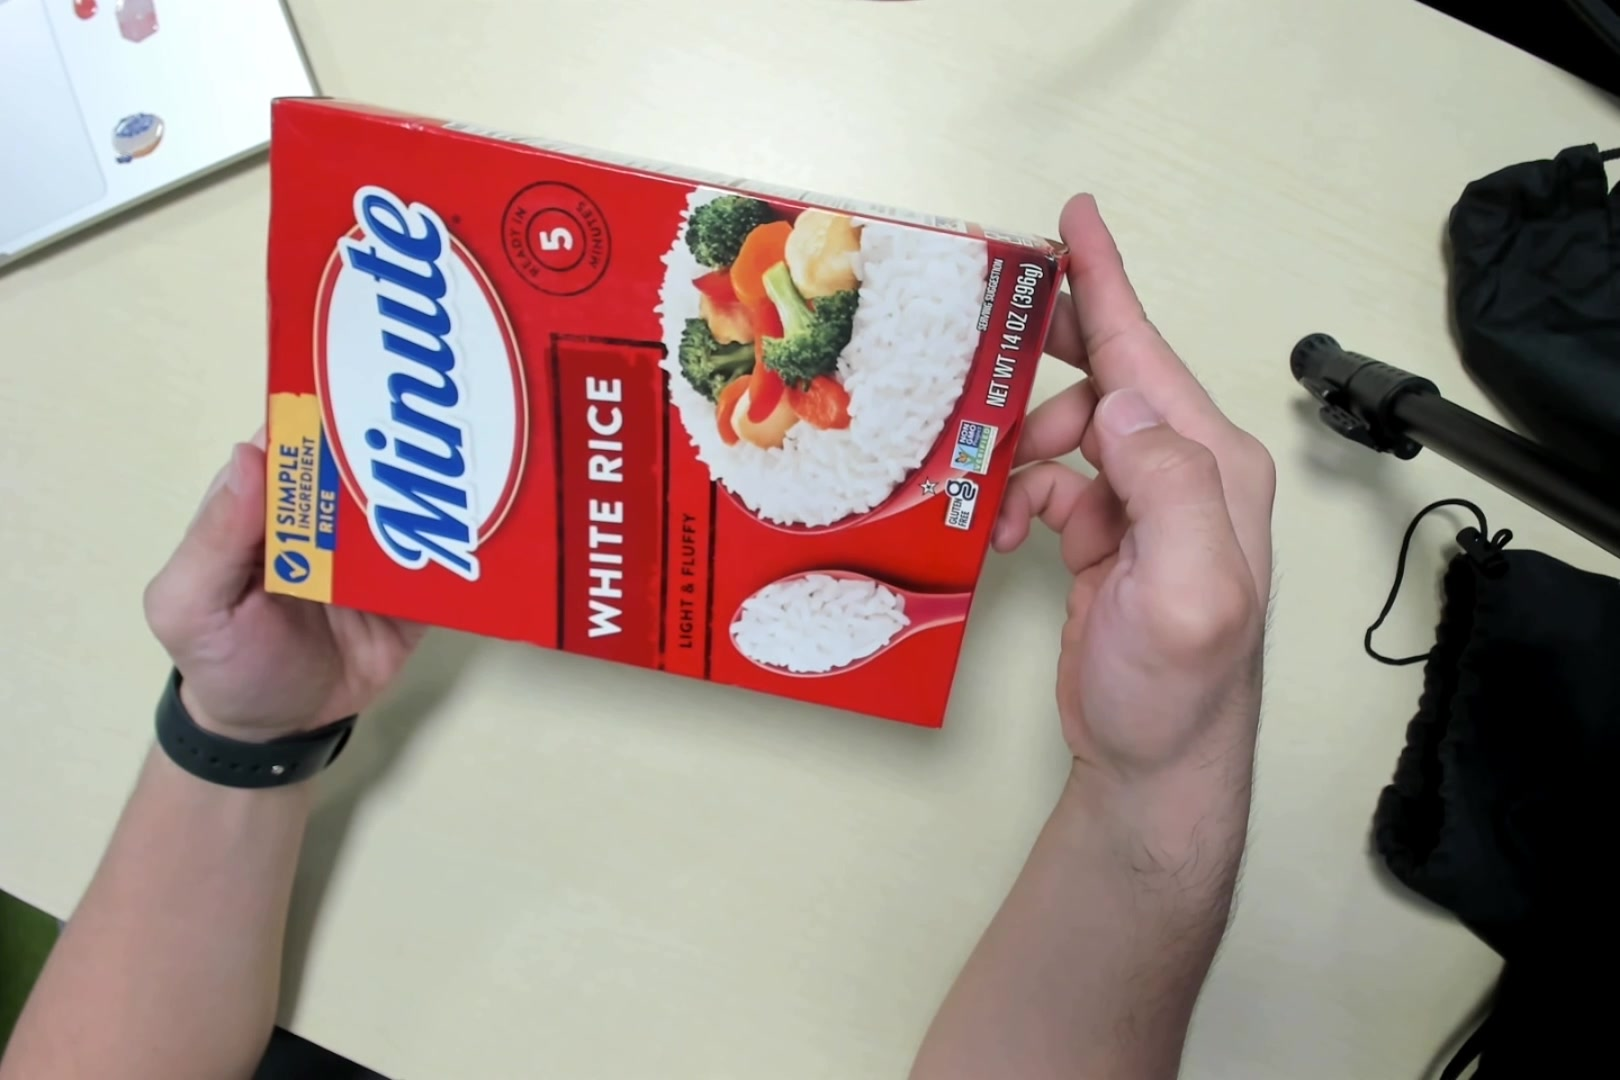Rice(White)_300-399g_NonHalal_NonHealthy: (264, 96, 1066, 750)
